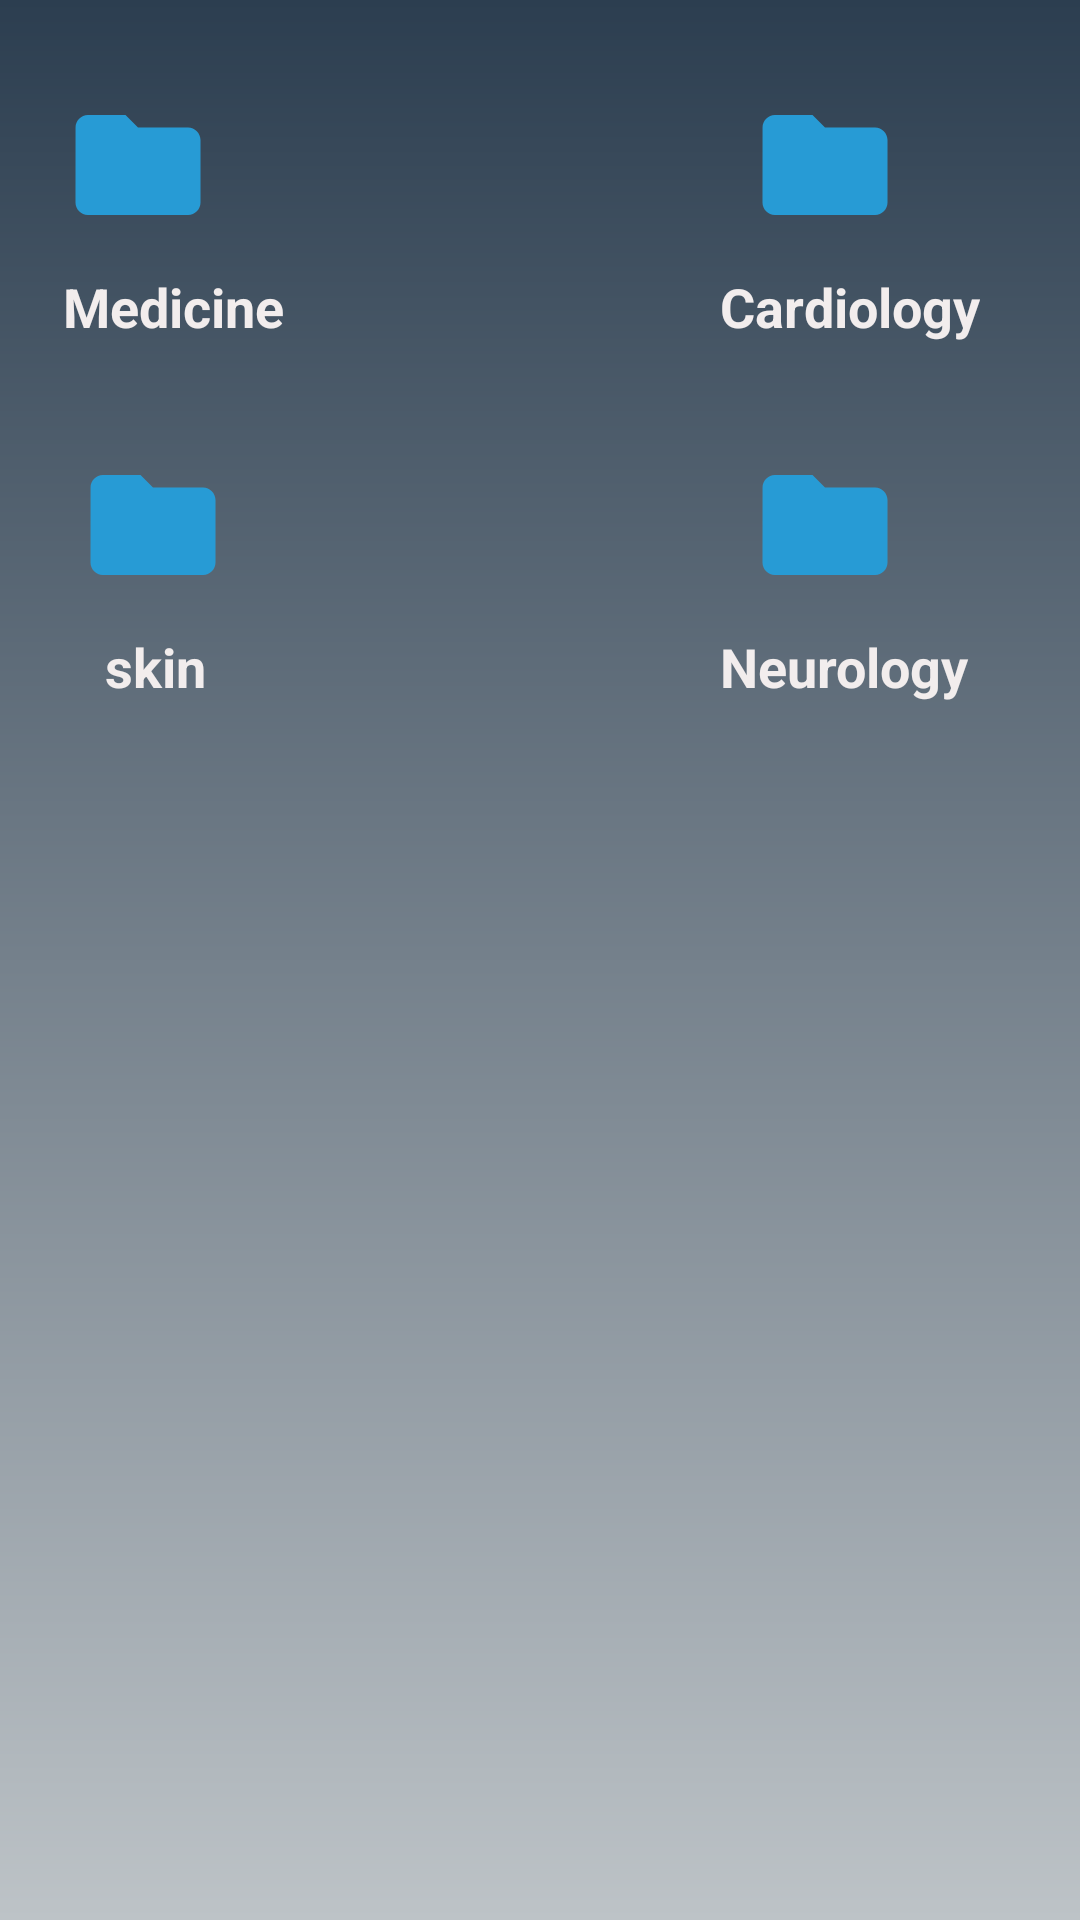

Icon bounding boxes for this 1080x1920 phone screenshot, format {"left": x1, "top": y1, "right": x2, "bottom": y2}:
folder: {"left": 75, "top": 115, "right": 201, "bottom": 215}, {"left": 762, "top": 115, "right": 888, "bottom": 215}, {"left": 90, "top": 475, "right": 216, "bottom": 575}, {"left": 762, "top": 475, "right": 888, "bottom": 575}
